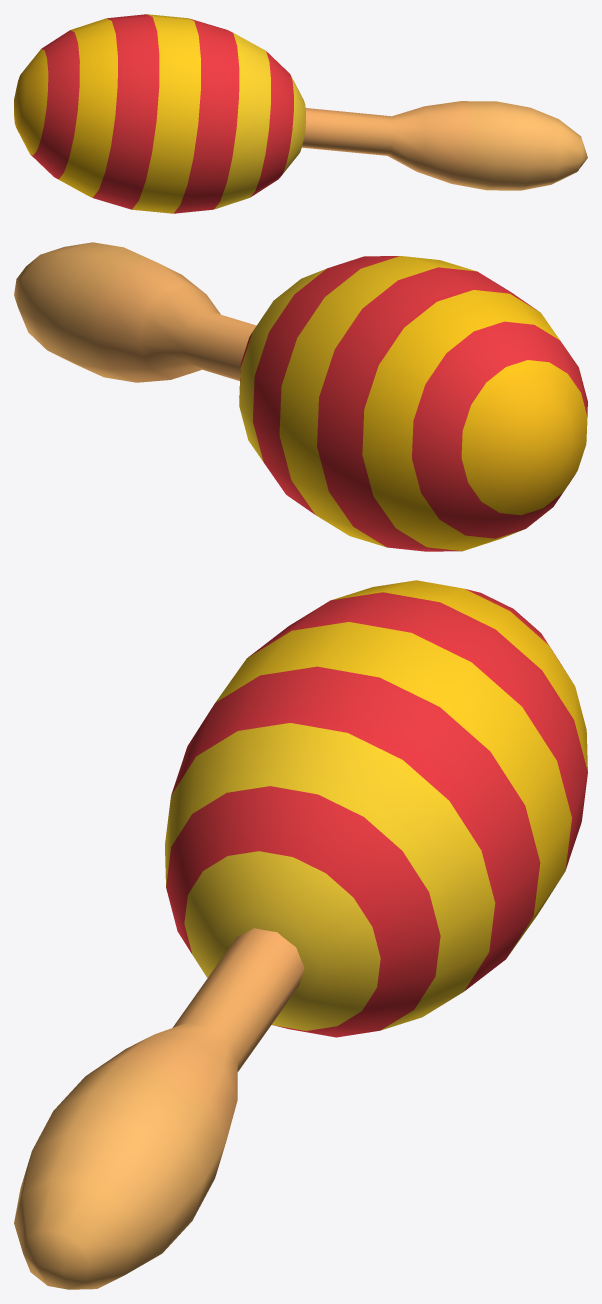
The model's file is Toy_01.glb.
3 views of the same model, one above another, from view 1: azimuth 30°, elevation 25°; view 2: azimuth 150°, elevation 25°; view 3: azimuth 270°, elevation 25° (orthographic). The views are drawn at different scales.
Parts seen in each view (by area): view 1: Toy_01; view 2: Toy_01; view 3: Toy_01.
Boxes of the visible parts, x1,y1,x2,y2 form: Toy_01: [14, 14, 587, 213]; Toy_01: [14, 242, 587, 551]; Toy_01: [14, 580, 587, 1289].
Bounding box in the file's own units: 0.2067 × 0.0762 × 0.1108.
Materials: 1 (1 with a texture image).
